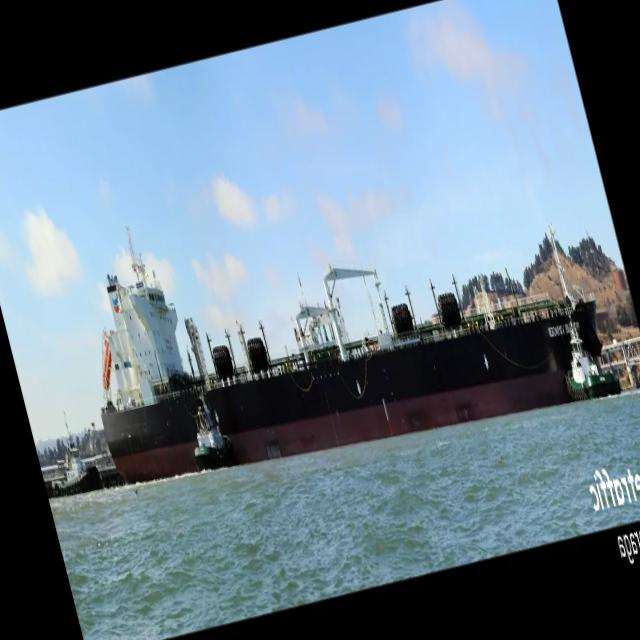Tanker: (102, 226, 621, 480)
Tug: (566, 319, 620, 400), (194, 393, 230, 469), (52, 441, 103, 493)
